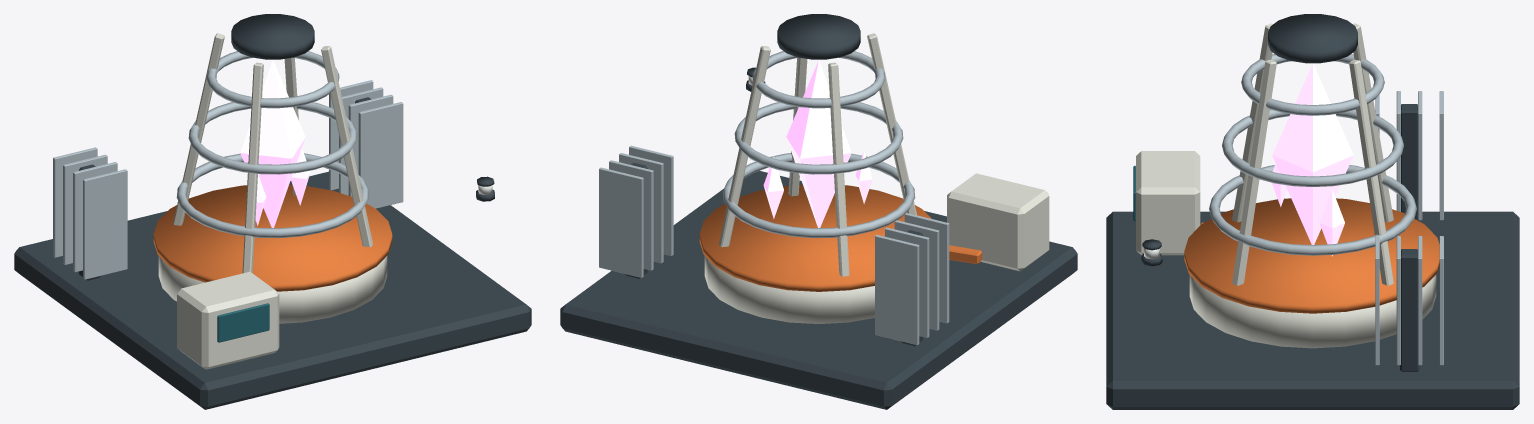
The model's file is reactor.glb.
3 renders of one model, left to right at view 1: azimuth 30°, elevation 25°; view 2: azimuth 150°, elevation 25°; view 3: azimuth 270°, elevation 25°, orthographic. The views are drawn at different scales.
Visible parts, largest first — view 1: reactor_dark, reactor_metal, reactor_ivory, reactor_orange, reactor_violet, reactor_glass; view 2: reactor_dark, reactor_metal, reactor_ivory, reactor_orange, reactor_violet; view 3: reactor_dark, reactor_ivory, reactor_orange, reactor_metal, reactor_violet.
Boxes of the visible parts, <box> form: reactor_dark: <box>14,14,531,409</box>; reactor_metal: <box>53,51,403,279</box>; reactor_ivory: <box>158,33,387,369</box>; reactor_orange: <box>153,184,392,291</box>; reactor_violet: <box>240,60,310,227</box>; reactor_glass: <box>217,303,269,342</box>; reactor_dark: <box>560,14,1077,409</box>; reactor_metal: <box>599,51,949,345</box>; reactor_ivory: <box>704,33,1049,323</box>; reactor_orange: <box>699,184,982,291</box>; reactor_violet: <box>763,60,872,227</box>; reactor_dark: <box>1106,14,1519,409</box>; reactor_ivory: <box>1136,23,1436,348</box>; reactor_orange: <box>1184,198,1439,313</box>; reactor_metal: <box>1209,54,1443,365</box>; reactor_violet: <box>1272,63,1353,256</box>.
Size of the model in its own units: 3.85 by 3.01 by 3.85.
